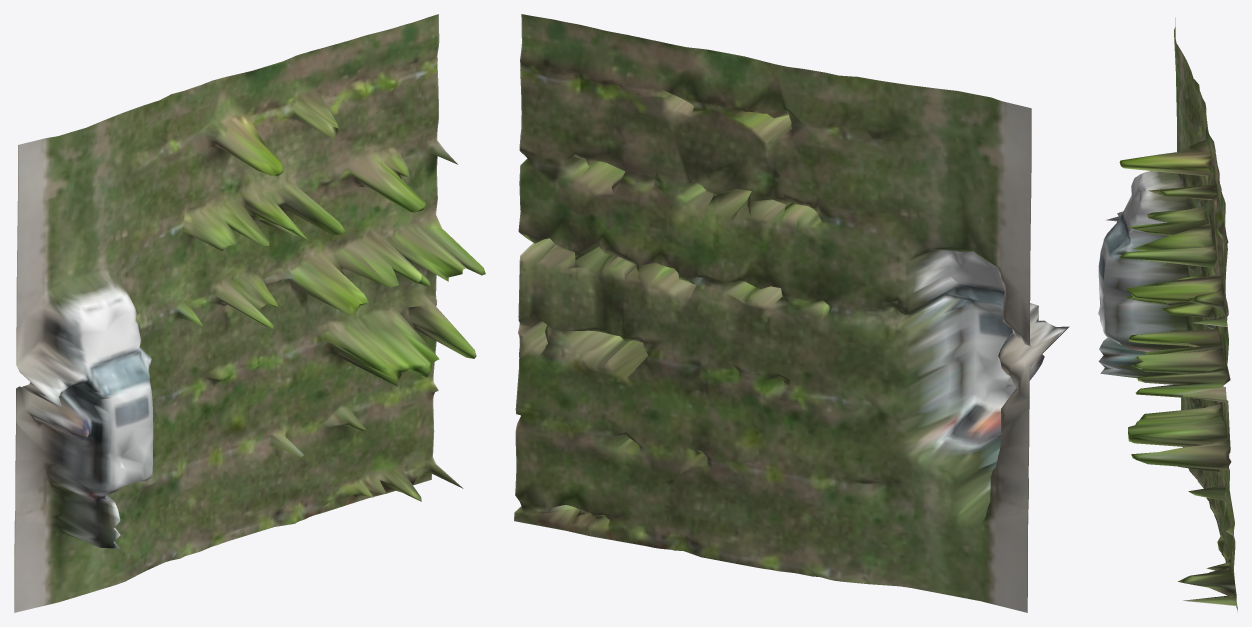
File: map_100_90.obj
The picture shows the model from 3 angles, left to right: view 1: azimuth 30°, elevation 25°; view 2: azimuth 150°, elevation 25°; view 3: azimuth 270°, elevation 25°; orthographic projection. The views are drawn at different scales.
Parts seen in each view (by area): view 1: map_100_90.obj; view 2: map_100_90.obj; view 3: map_100_90.obj.
Part boxes in pixels (left/top/right/bottom): map_100_90.obj: left=14, top=14, right=485, bottom=612; map_100_90.obj: left=514, top=14, right=1069, bottom=612; map_100_90.obj: left=1098, top=17, right=1237, bottom=612.
Bounding box in the file's own units: 10 × 10 × 3.1.
1 material, 1 textured.
